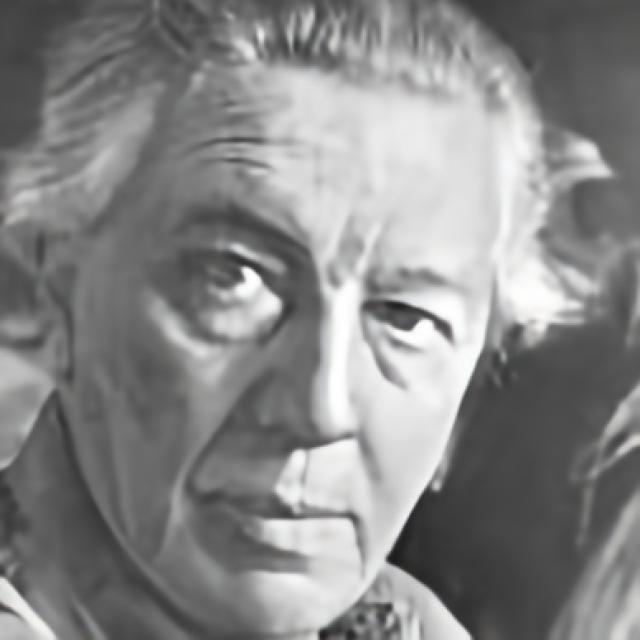neutral: (66, 50, 498, 637)
